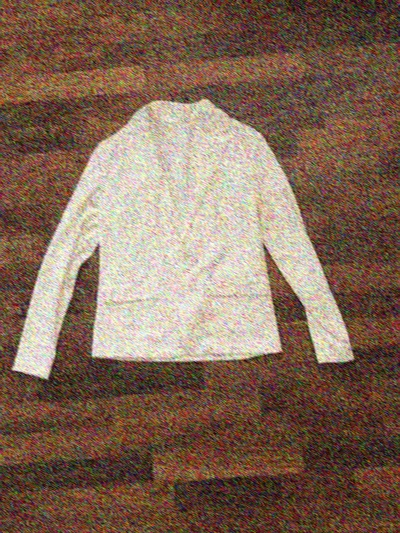Blazer: (16, 82, 364, 406)
